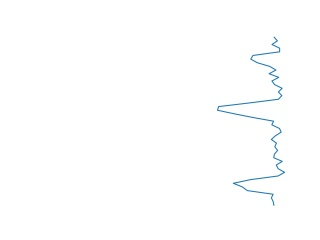underwaterNaturalLevee: (213, 37, 290, 206)
